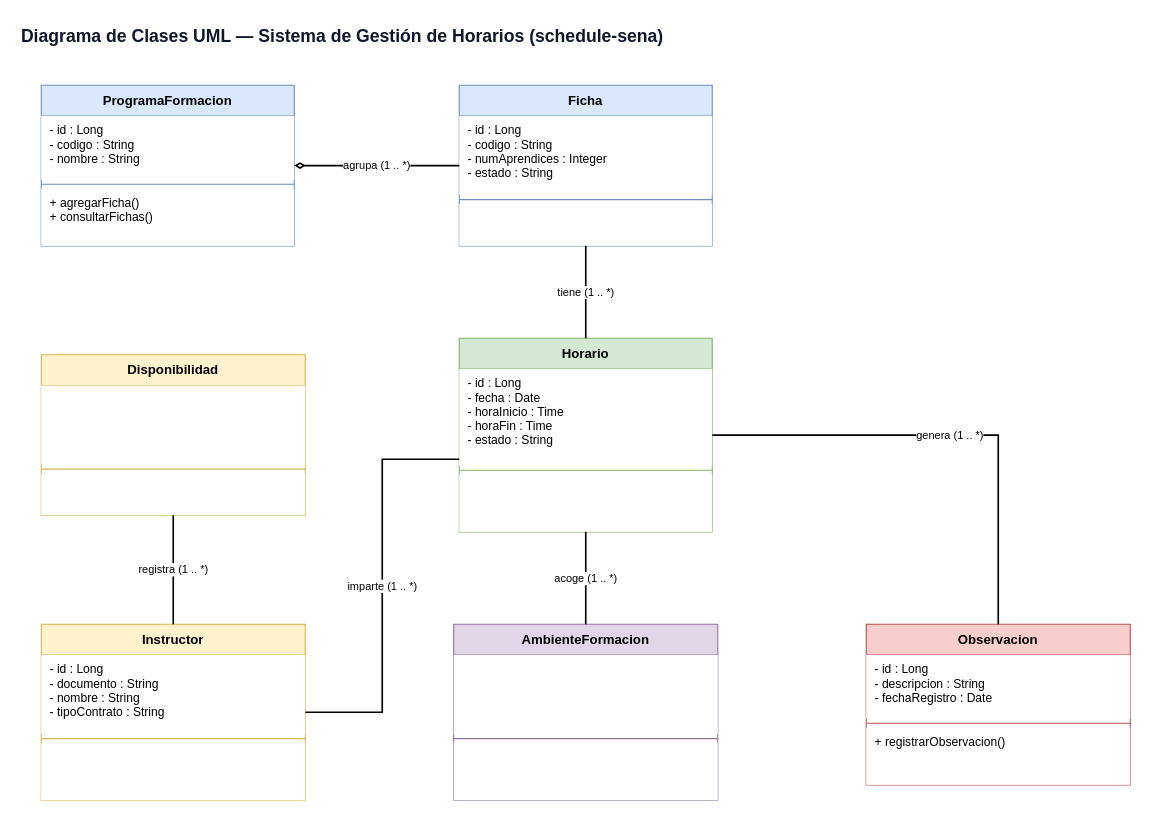
This 1150x822 diagram has some shape labels left out. The centre of each missing label's shape, as x and y in pixels:
"+ actualizarEstado()" belongs at pixel 585 224.
"+ consultarDisponibilidad() + actualizarDisponibilidad()" belongs at pixel 173 771.
"+ validarCapacidad() + cambiarEstado()" belongs at pixel 585 771.
"+ validarConflicto() + cambiarEstado()" belongs at pixel 585 502.
"+ verificarDisponibilidad()" belongs at pixel 173 494.
"- id : Long - codigo : String - capacidad : Integer - estado : String" belongs at pixel 585 694.
"- id : Long - dia : String - horaInicio : Time - horaFin : Time" belongs at pixel 173 424.
